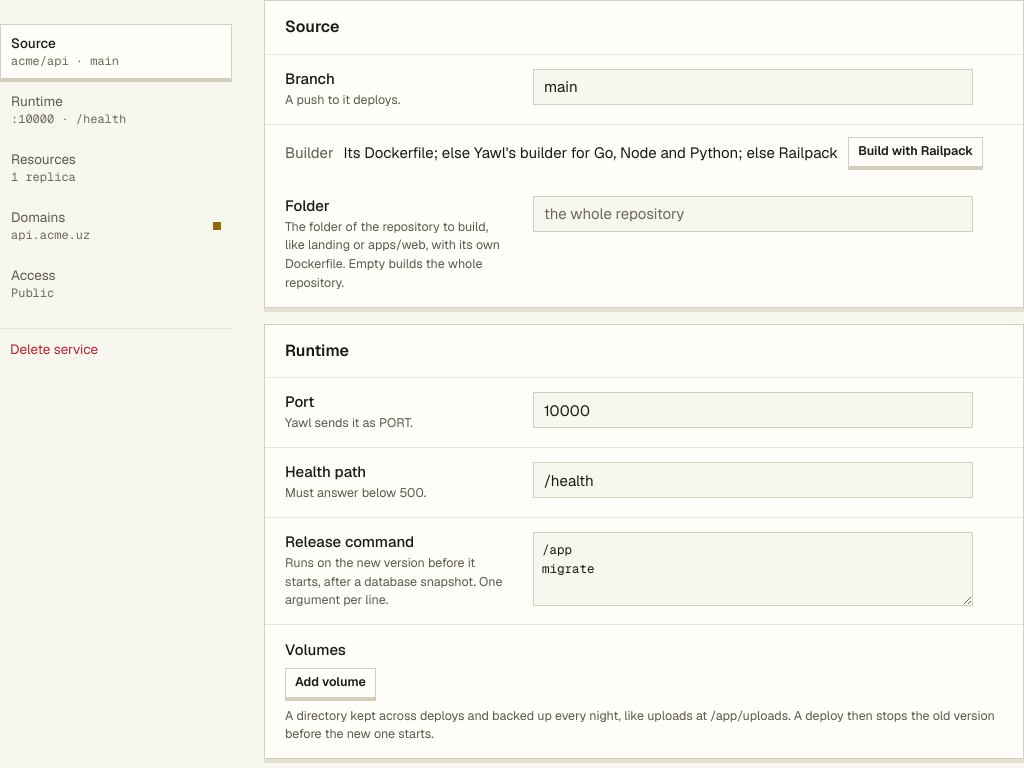
it: ServiceSettings › builds with Railpack when asked, through the plan
Click the button "Build with Railpack". click: point(916, 152)
box: [848, 136, 983, 166]
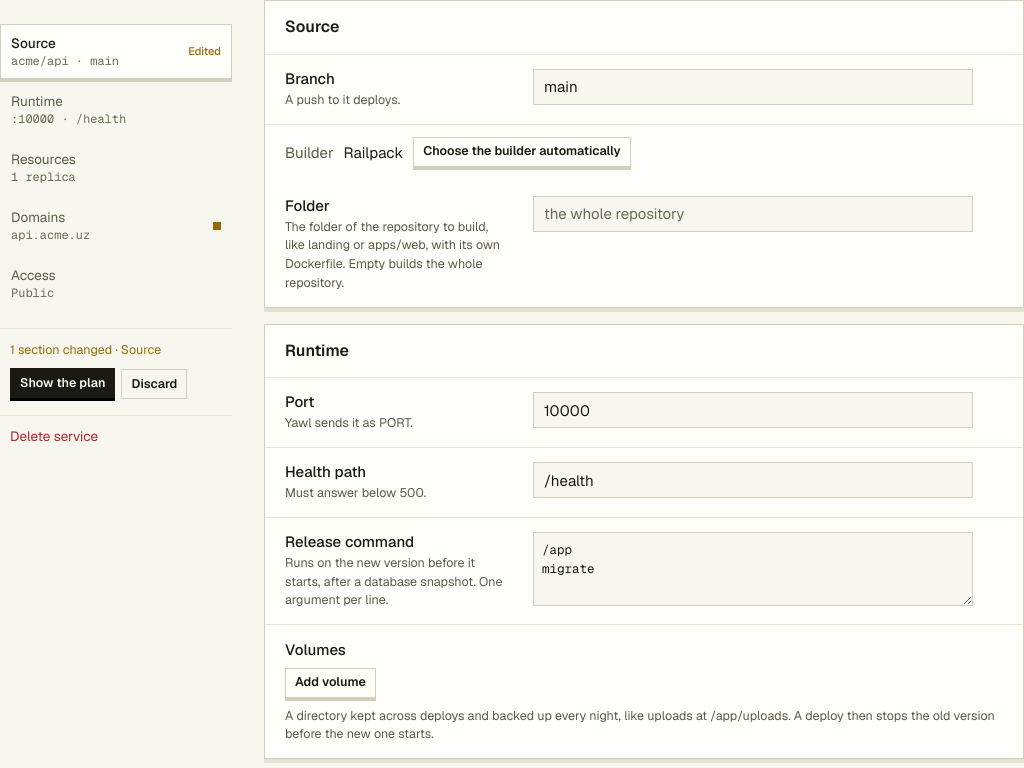
Click the button "Show the plan". click: point(63, 383)
box: [10, 368, 116, 398]
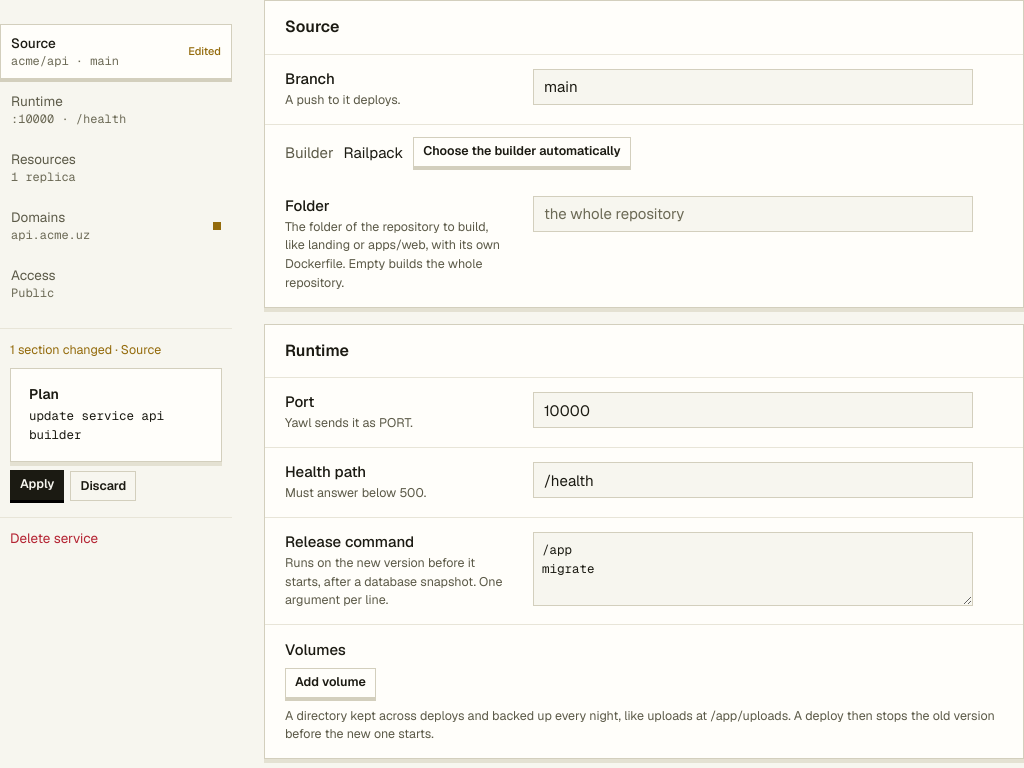
Result: the button "Choose the builder automatically" is shown at [413, 136, 631, 166]
Result: the text "update service api builder" is shown at [29, 407, 164, 443]
